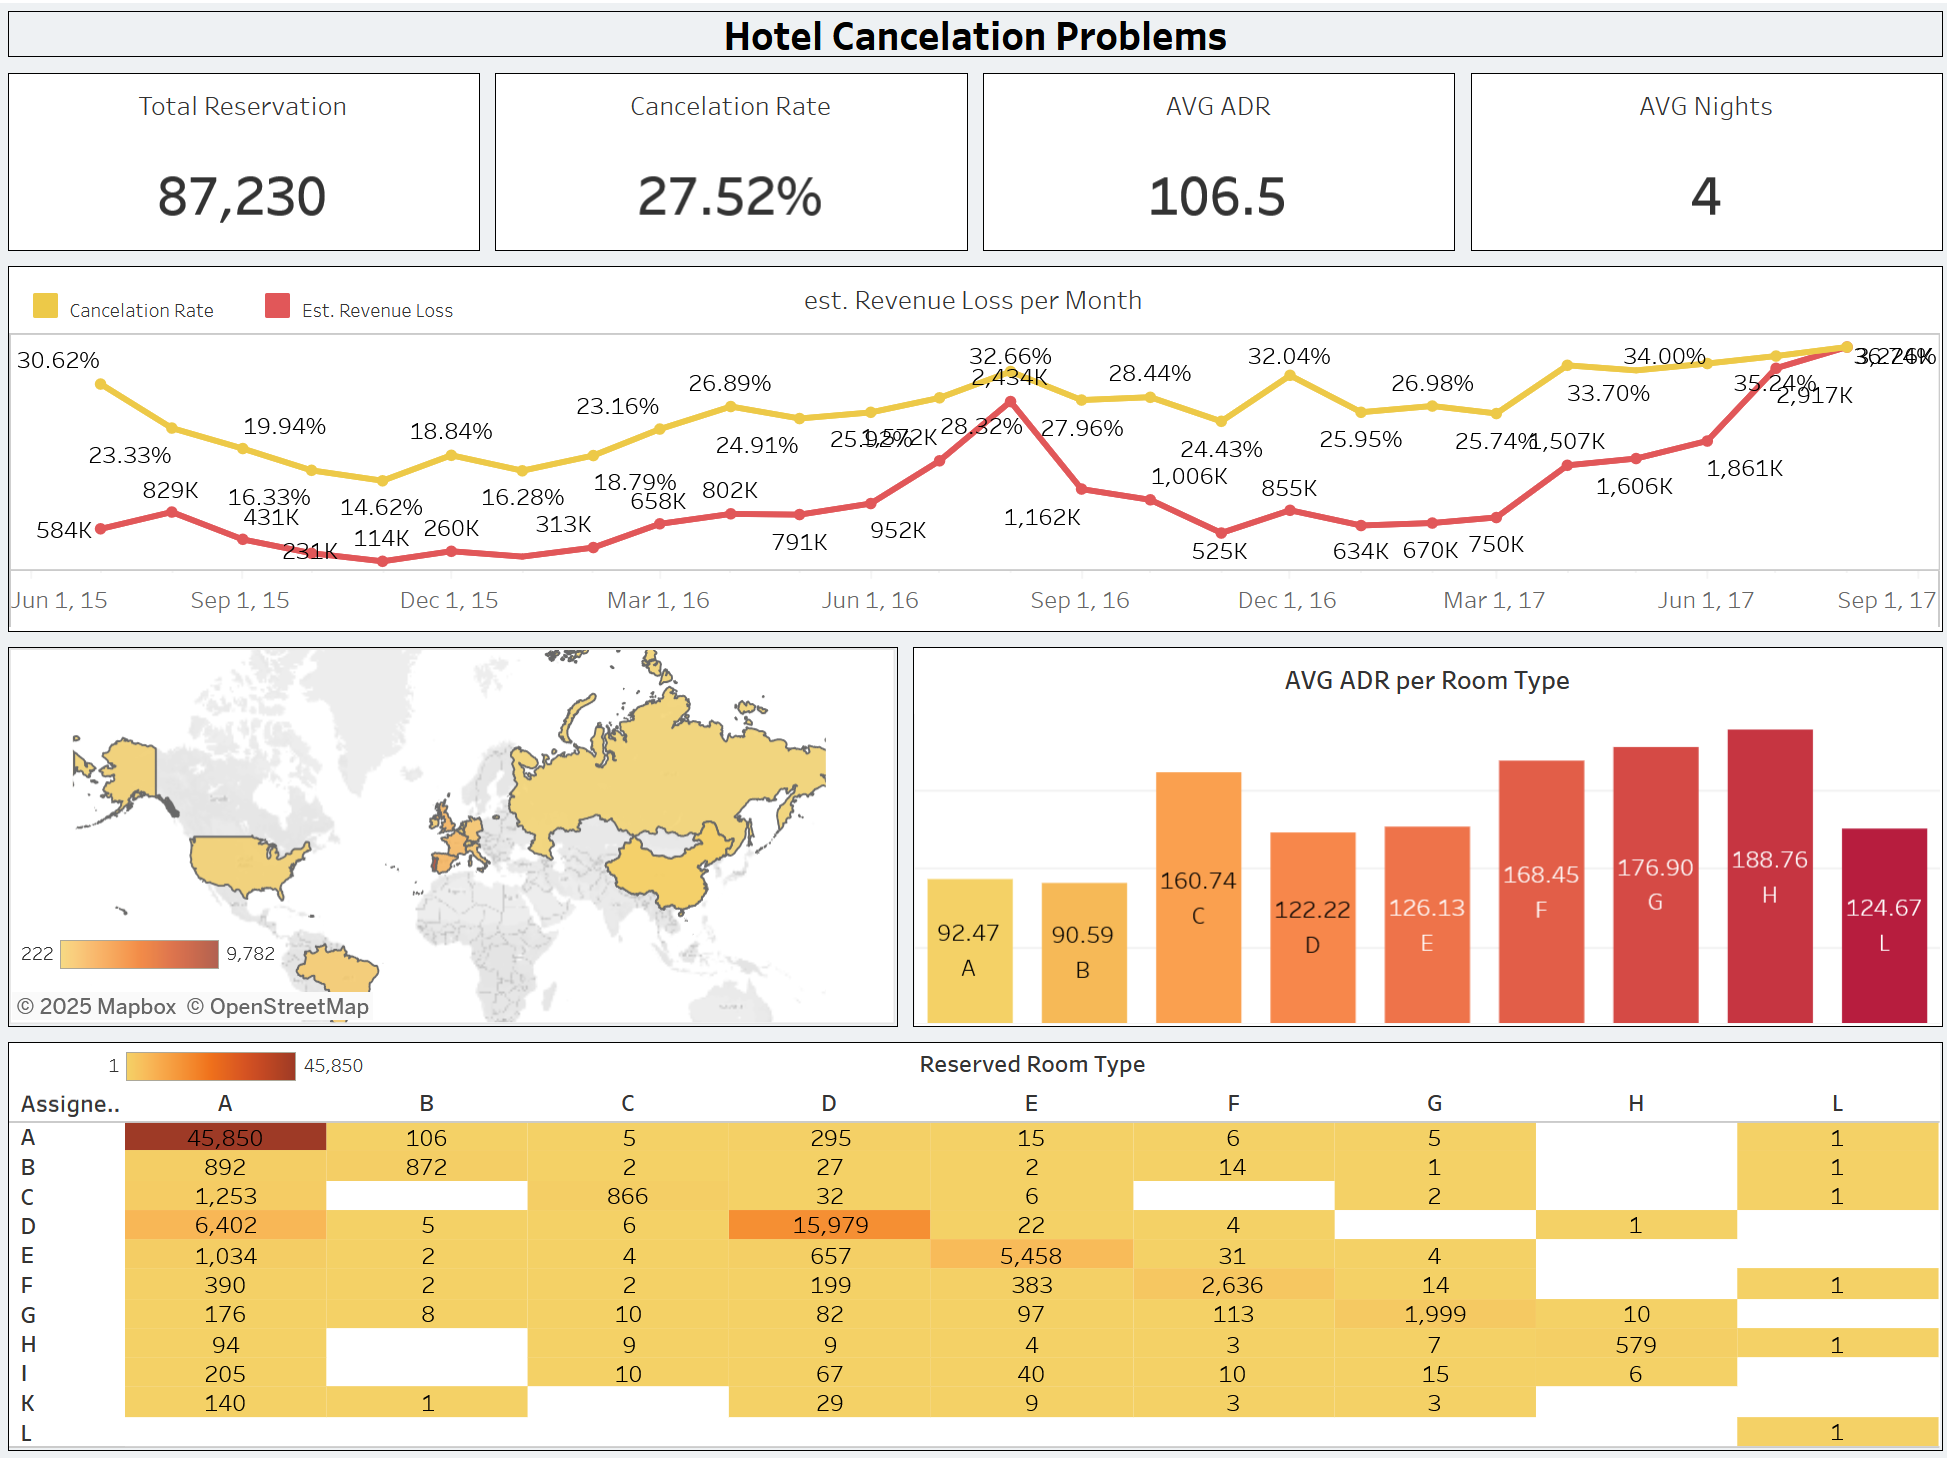

The dashboard page shown, as its layout file describes it:
{"tool":"tableau","page":{"name":"Hotel Cancelation","canvas":[1024,768],"ordinal":0},"visuals":[{"type":"text","box":[8,8,1008,32]},{"type":"worksheet","title":"Total Reservation","mark":"Automatic","box":[8,40,252,99.5]},{"type":"worksheet","title":"Cancelation Rate","mark":"Automatic","box":[260,40,252,99.5]},{"type":"worksheet","title":"AVG ADR","mark":"Automatic","box":[512,40,252,99.5]},{"type":"worksheet","title":"AVG Nights","mark":"Automatic","box":[764,40,252,99.5]},{"type":"worksheet","title":"est. Revenue Loss per Month","mark":"Automatic","rows":["Calculation_1284651849386414083","Calculation_1284651849386016768"],"cols":["Calculation_1284651849389158406"],"box":[8,139.5,1008,197.2]},{"type":"legend","title":"est. Revenue Loss per Month","param":"[federated.1jyavrx1quyp6f1biqlgc130tjyy].[:Measure Names]","box":[22,155,341,22]},{"type":"worksheet","title":"Cancellation by Country (Top 15)","mark":"Automatic","box":[8,336.8,468,203.9]},{"type":"worksheet","title":"AVG ADR per Room Type","mark":"Automatic","rows":["adr"],"cols":["reserved_room_type"],"box":[476,336.8,540,203.9]},{"type":"legend","title":"Cancellation by Country (Top 15)","param":"[federated.1jyavrx1quyp6f1biqlgc130tjyy].[sum:is_canceled:qk]","box":[15,488,140,22]},{"type":"worksheet","title":"Reserved x Assign Room Type","mark":"Square","rows":["assigned_room_type"],"cols":["reserved_room_type"],"box":[8,541,1008,219]},{"type":"legend","title":"Reserved x Assign Room Type","param":"[federated.1jyavrx1quyp6f1biqlgc130tjyy].[__tableau_internal_object_id__].[cnt:T","box":[60,546,140,24]}]}

Visuals, with their boxes in screenshot pixels (x1, y1, x2, y2), scaled from the page's 1024x768 canvas onto the 1947x1458 screenshot:
text: rect(15, 15, 1932, 76)
"Total Reservation" worksheet: rect(15, 76, 494, 265)
"Cancelation Rate" worksheet: rect(494, 76, 974, 265)
"AVG ADR" worksheet: rect(974, 76, 1453, 265)
"AVG Nights" worksheet: rect(1453, 76, 1932, 265)
"est. Revenue Loss per Month" worksheet: rect(15, 265, 1932, 639)
"est. Revenue Loss per Month" legend: rect(42, 294, 690, 336)
"Cancellation by Country (Top 15)" worksheet: rect(15, 639, 905, 1026)
"AVG ADR per Room Type" worksheet: rect(905, 639, 1932, 1026)
"Cancellation by Country (Top 15)" legend: rect(29, 926, 295, 968)
"Reserved x Assign Room Type" worksheet (Square marks): rect(15, 1027, 1932, 1443)
"Reserved x Assign Room Type" legend: rect(114, 1037, 380, 1082)
